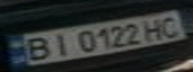0: (72, 28, 96, 53)
1: (93, 25, 112, 51)
2: (121, 20, 145, 46), (109, 21, 130, 48)
B: (15, 34, 54, 63)
C: (154, 14, 187, 38)
H: (139, 16, 169, 42)
I: (45, 32, 75, 57)
